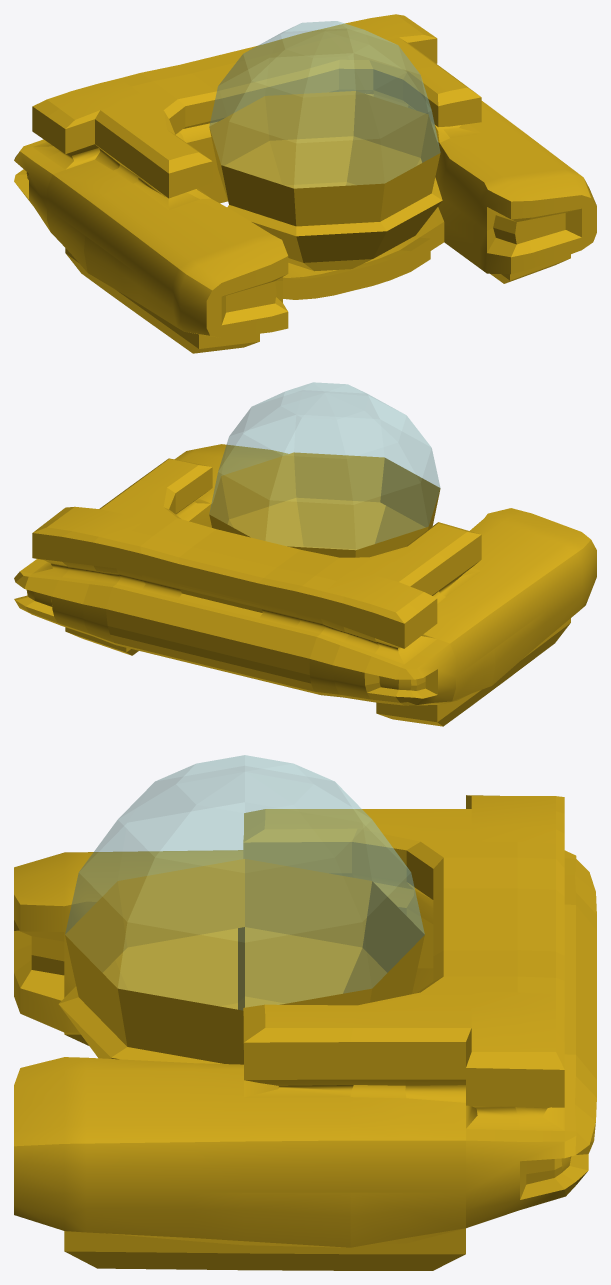
The model's file is submarino.fbx.
3 renders of one model, top to bottom at view 1: azimuth 30°, elevation 25°; view 2: azimuth 150°, elevation 25°; view 3: azimuth 270°, elevation 25°, orthographic. The views are drawn at different scales.
Parts seen in each view (by area): view 1: pasted__pCube2, pSphere2; view 2: pasted__pCube2, pSphere2; view 3: pasted__pCube2, pSphere2.
Part boxes in pixels (x1,y1,x2,y2): pasted__pCube2: (14, 14, 596, 353); pSphere2: (209, 21, 442, 271); pasted__pCube2: (14, 444, 596, 726); pSphere2: (209, 382, 440, 557); pasted__pCube2: (14, 795, 596, 1270); pSphere2: (58, 755, 424, 1064).
Bounding box in the file's own units: 30.59 × 17.68 × 24.97.
